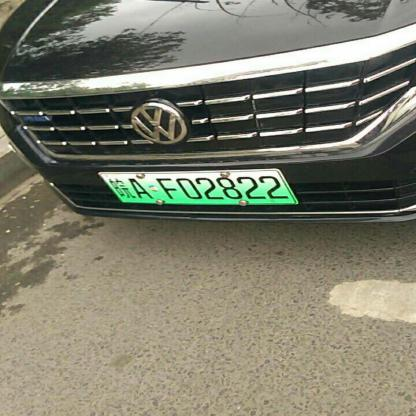lp: (100, 170, 295, 202)
